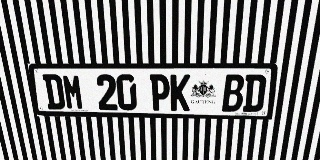0: (116, 74, 137, 110)
2: (96, 74, 118, 110)
B: (222, 74, 245, 112)
D: (242, 74, 267, 112), (42, 74, 66, 109)
K: (170, 74, 190, 111)
M: (61, 74, 84, 110)
P: (150, 74, 170, 111)
